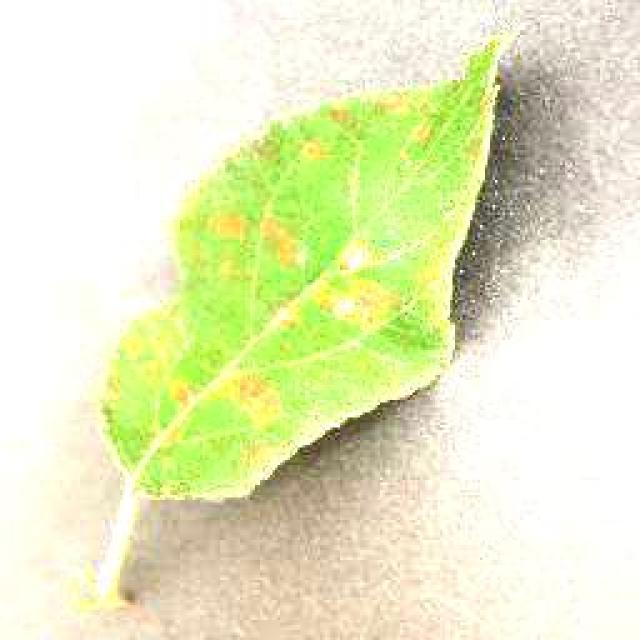apple cedar apple rust: (95, 30, 513, 505)
